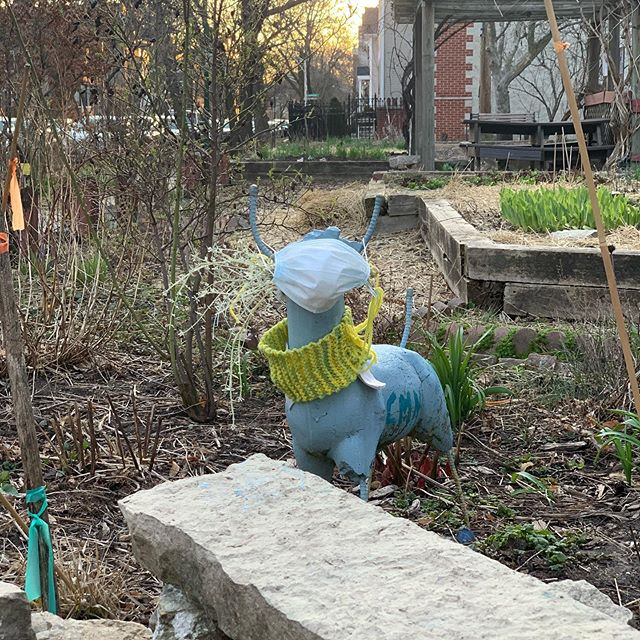building: (370, 1, 628, 144)
trash: (246, 230, 511, 502)
tree: (1, 1, 305, 419)
